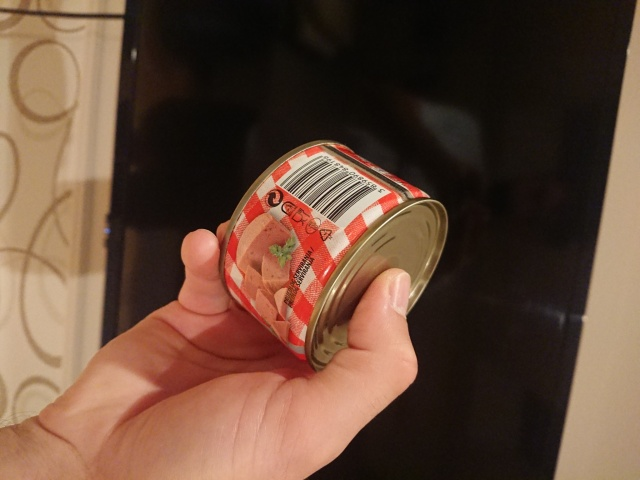Podravka Luncheon Meat 150g: (215, 135, 453, 376)
